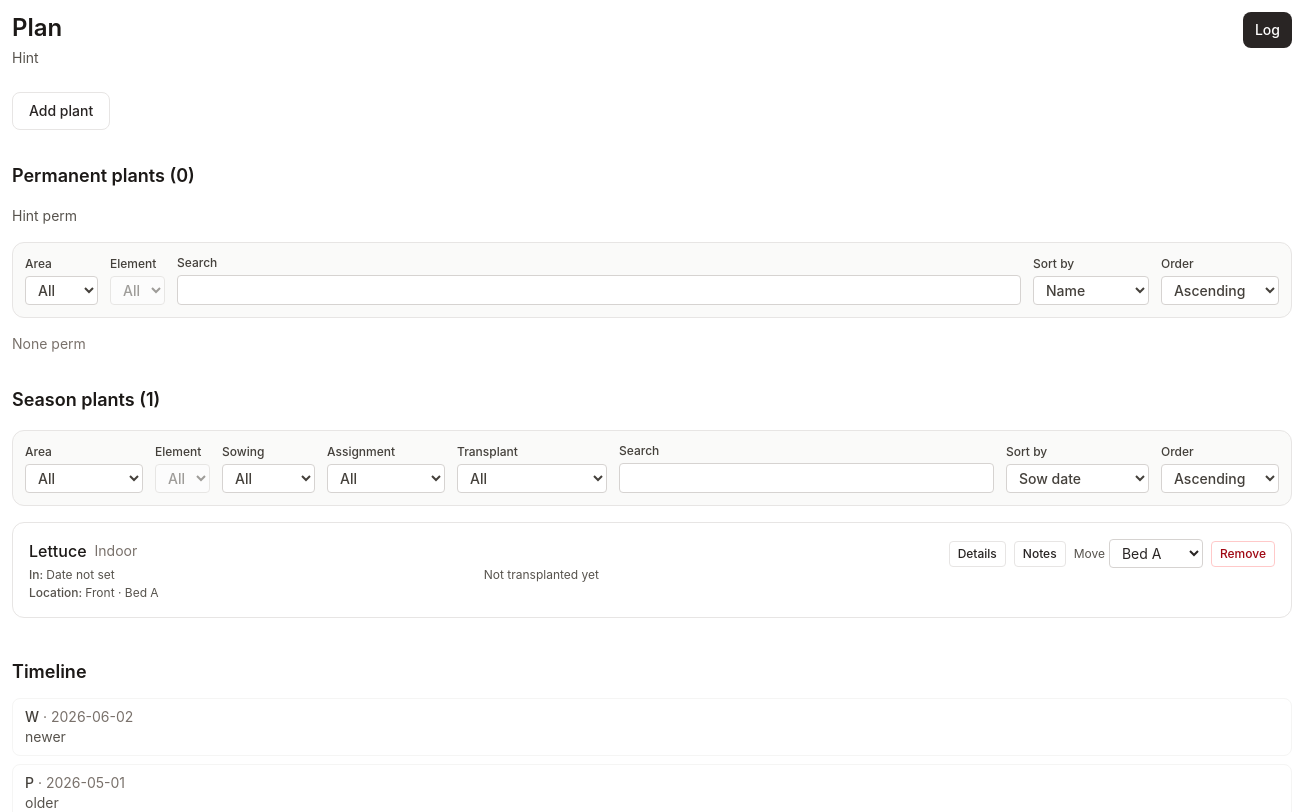
Test: PlantingPlanPage › opens planting notes section when toggled
Step 1. Click the button with test id "planting-notes-toggle-pl1" → (1040, 554), box [1014,540,1066,566]
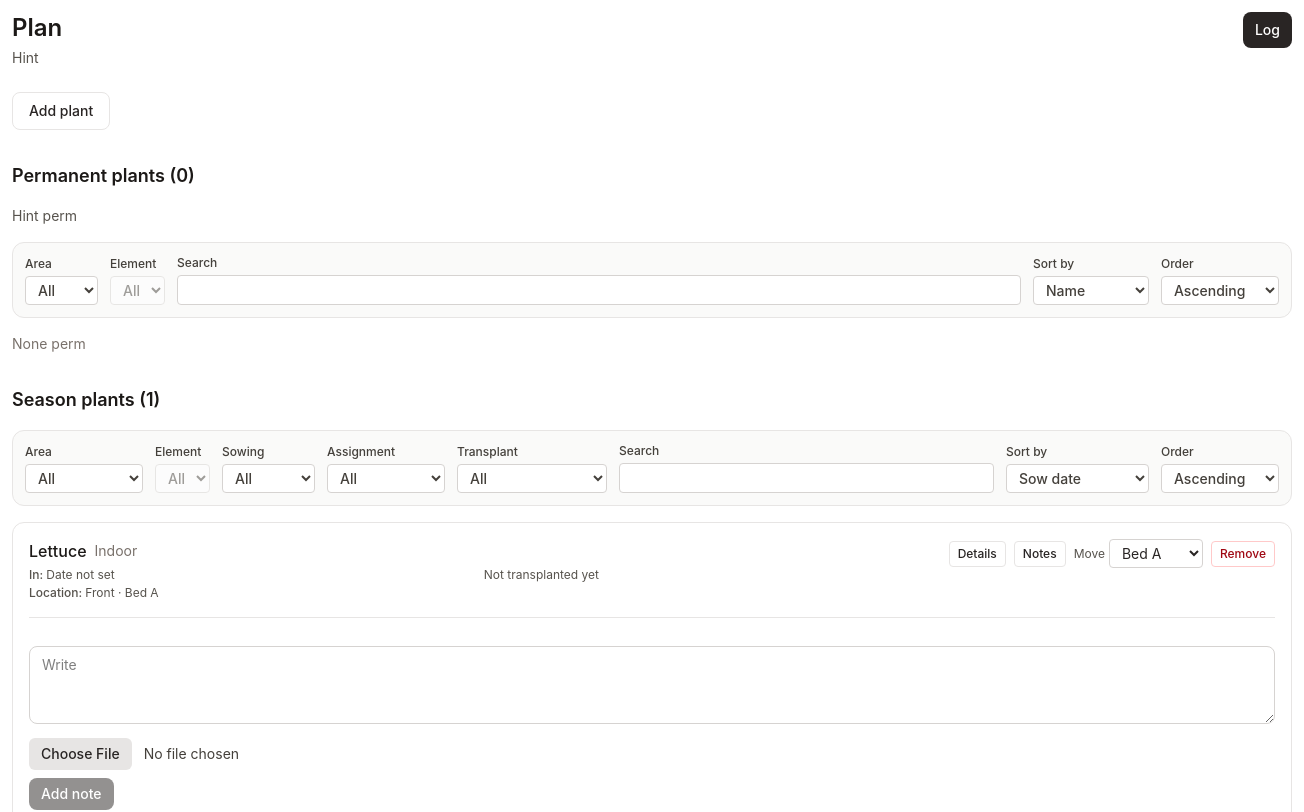
Result: the element with test id "notes-section" is shown at [29,617,1275,810]
